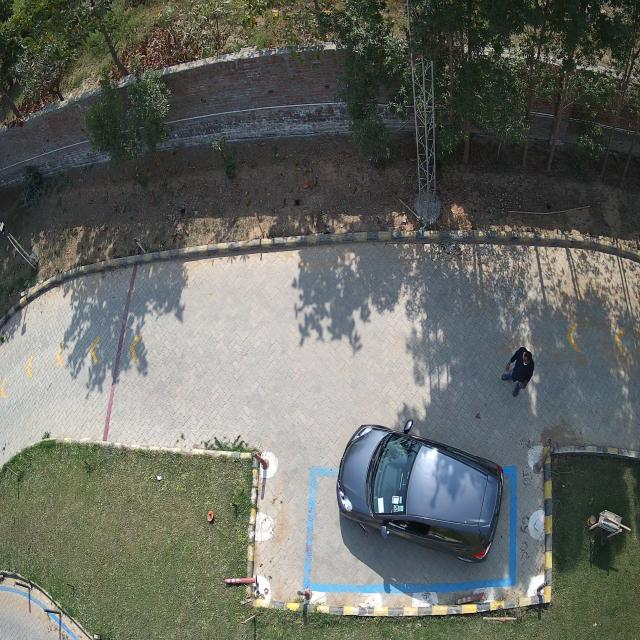car: (336, 425, 504, 562)
